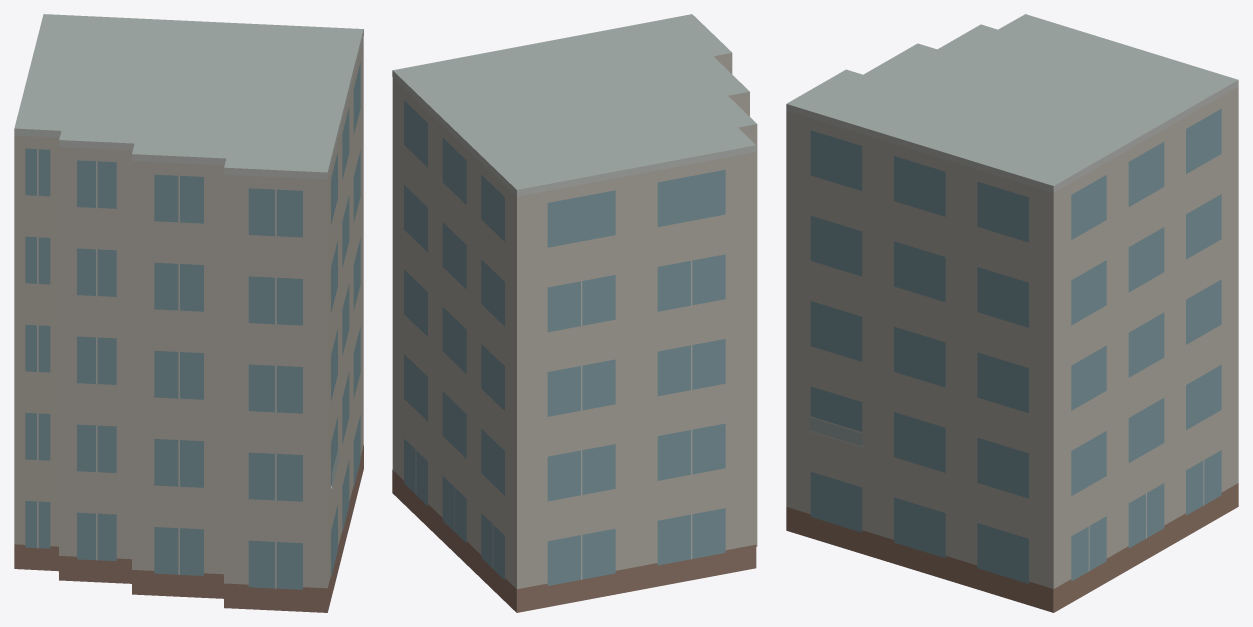
File: survey-upis-32718553.glb
The picture shows the model from 3 angles, left to right: view 1: azimuth 30°, elevation 25°; view 2: azimuth 150°, elevation 25°; view 3: azimuth 270°, elevation 25°; orthographic projection. The views are drawn at different scales.
Visible parts, largest first — view 1: survey-upis-32718553.tmp; view 2: survey-upis-32718553.tmp; view 3: survey-upis-32718553.tmp.
Part boxes in pixels (x1,y1,x2,y2): survey-upis-32718553.tmp: (14,14,363,612); survey-upis-32718553.tmp: (392,14,757,612); survey-upis-32718553.tmp: (786,14,1238,612).
Bounding box in the file's own units: 13.33 × 15.4 × 14.8.
